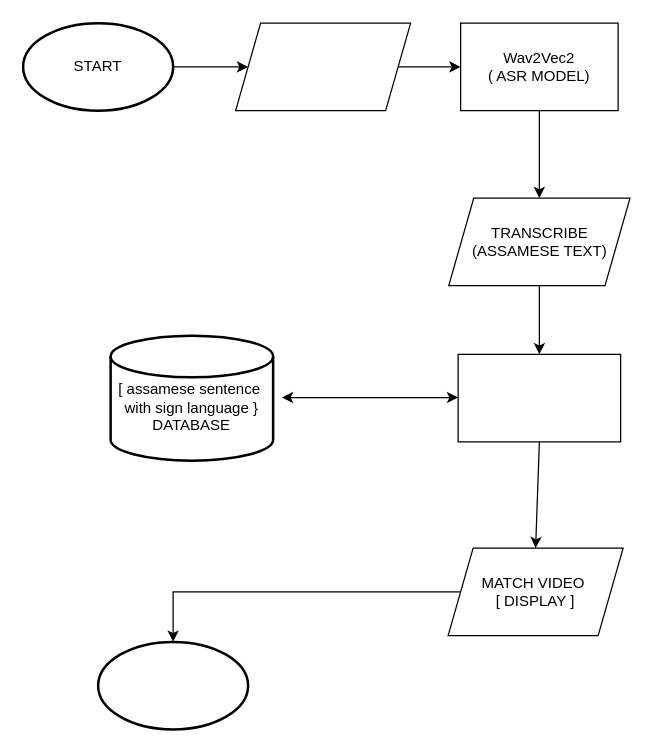
Image size: 651x751. Some labels were removed from this diagram. The shapes that lost their labels are listed below. From the top down, each one's centre as x and y in pixels, then its label:
[322,66]: RECORD AUDIO
[539,397]: Sentence Processing [ NLP ] Sentence matching
[172,685]: END
